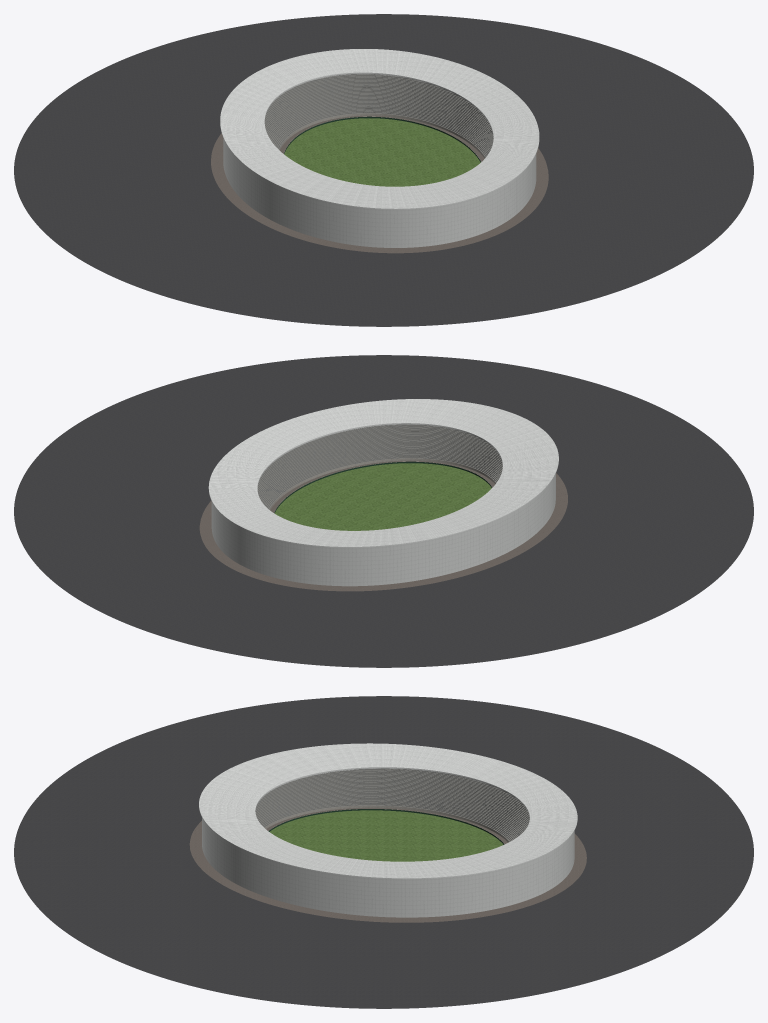
File: sky.glb
The picture shows the model from 3 angles, top to bottom: view 1: azimuth 30°, elevation 25°; view 2: azimuth 150°, elevation 25°; view 3: azimuth 270°, elevation 25°; orthographic projection.
Visible parts, largest first — view 1: concourse, stands, roofs, seat_posts; view 2: concourse, stands, roofs, seat_posts; view 3: concourse, stands, roofs, seat_posts.
Boxes of the visible parts, <box> form: concourse: <box>14,14,753,326</box>; stands: <box>223,74,536,247</box>; roofs: <box>220,49,539,209</box>; seat_posts: <box>265,74,493,156</box>; concourse: <box>14,355,753,667</box>; stands: <box>211,424,555,586</box>; roofs: <box>208,399,558,547</box>; seat_posts: <box>260,425,501,505</box>; concourse: <box>14,696,753,1008</box>; stands: <box>202,768,574,917</box>; roofs: <box>199,743,577,879</box>; seat_posts: <box>256,769,527,836</box>.
Bounding box in the file's own units: 480 × 29.05 × 480.
11 materials, 11 textured.
